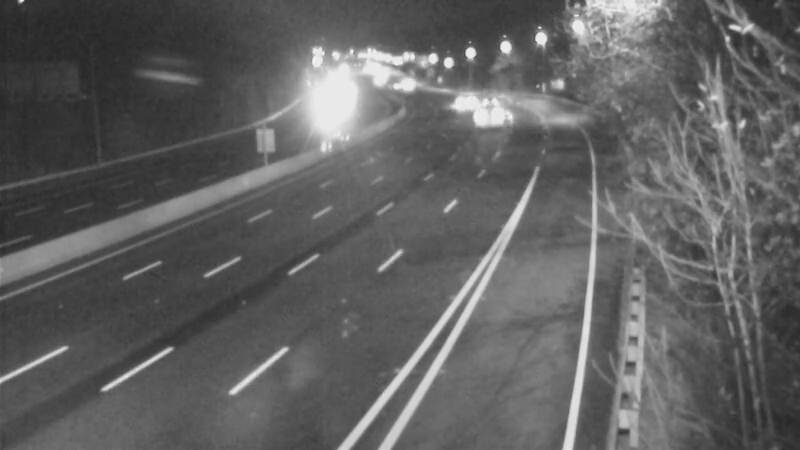vehicle: (376, 59, 426, 109), (368, 62, 418, 112), (436, 78, 486, 128), (464, 76, 514, 126), (467, 87, 517, 137)
